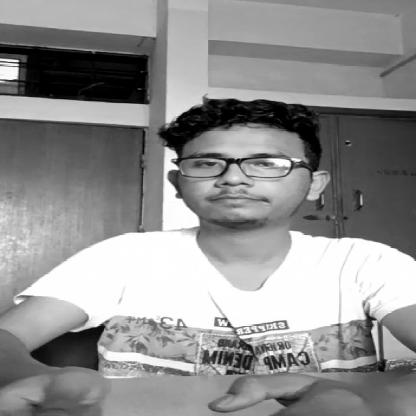Normal: (151, 102, 320, 236)
